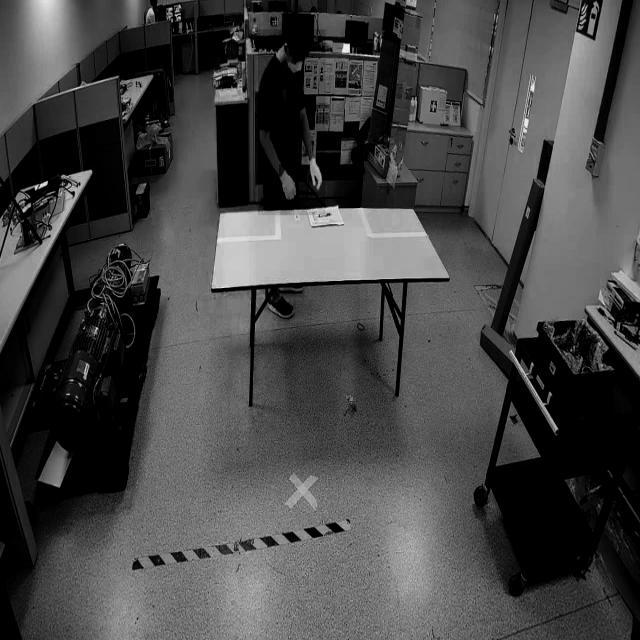face_mask: (284, 51, 304, 79)
hand_glove: (307, 153, 327, 199), (279, 164, 299, 209)
head_nohelmet: (283, 12, 311, 40)
person: (258, 29, 326, 216)
shoes: (265, 287, 295, 324)
